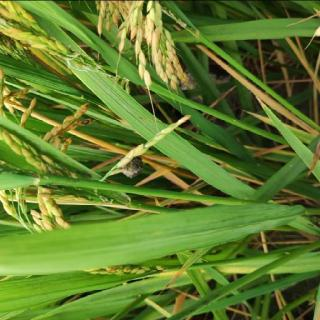Gosong-Palsu: (122, 153, 144, 176)
